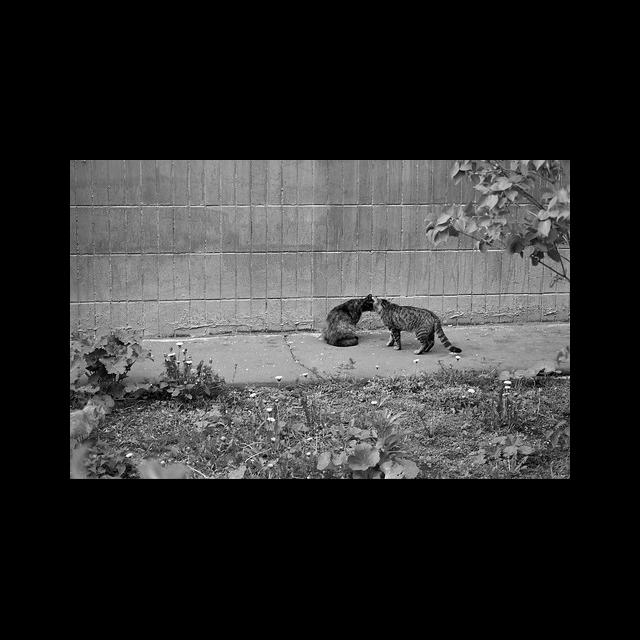animals: (374, 298, 462, 356), (323, 295, 374, 347)
